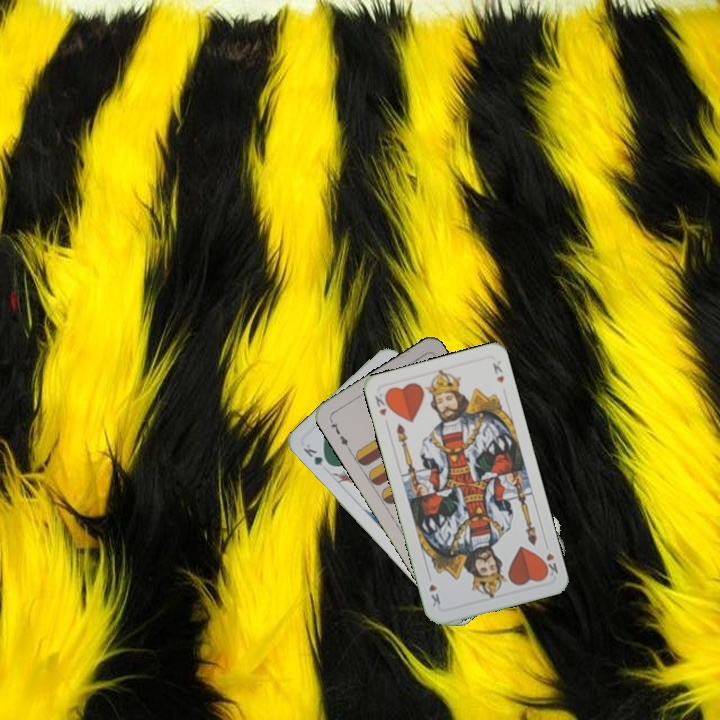E7: (326, 415, 352, 452)
GK: (299, 440, 334, 469)
HK: (538, 548, 561, 579), (371, 389, 393, 419)
